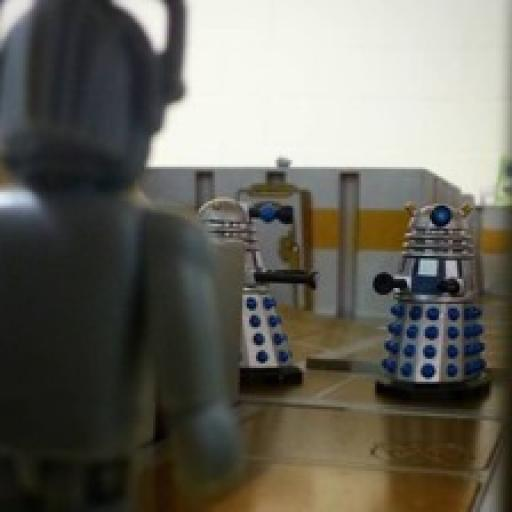dalek: (369, 196, 502, 409), (196, 194, 320, 399)
